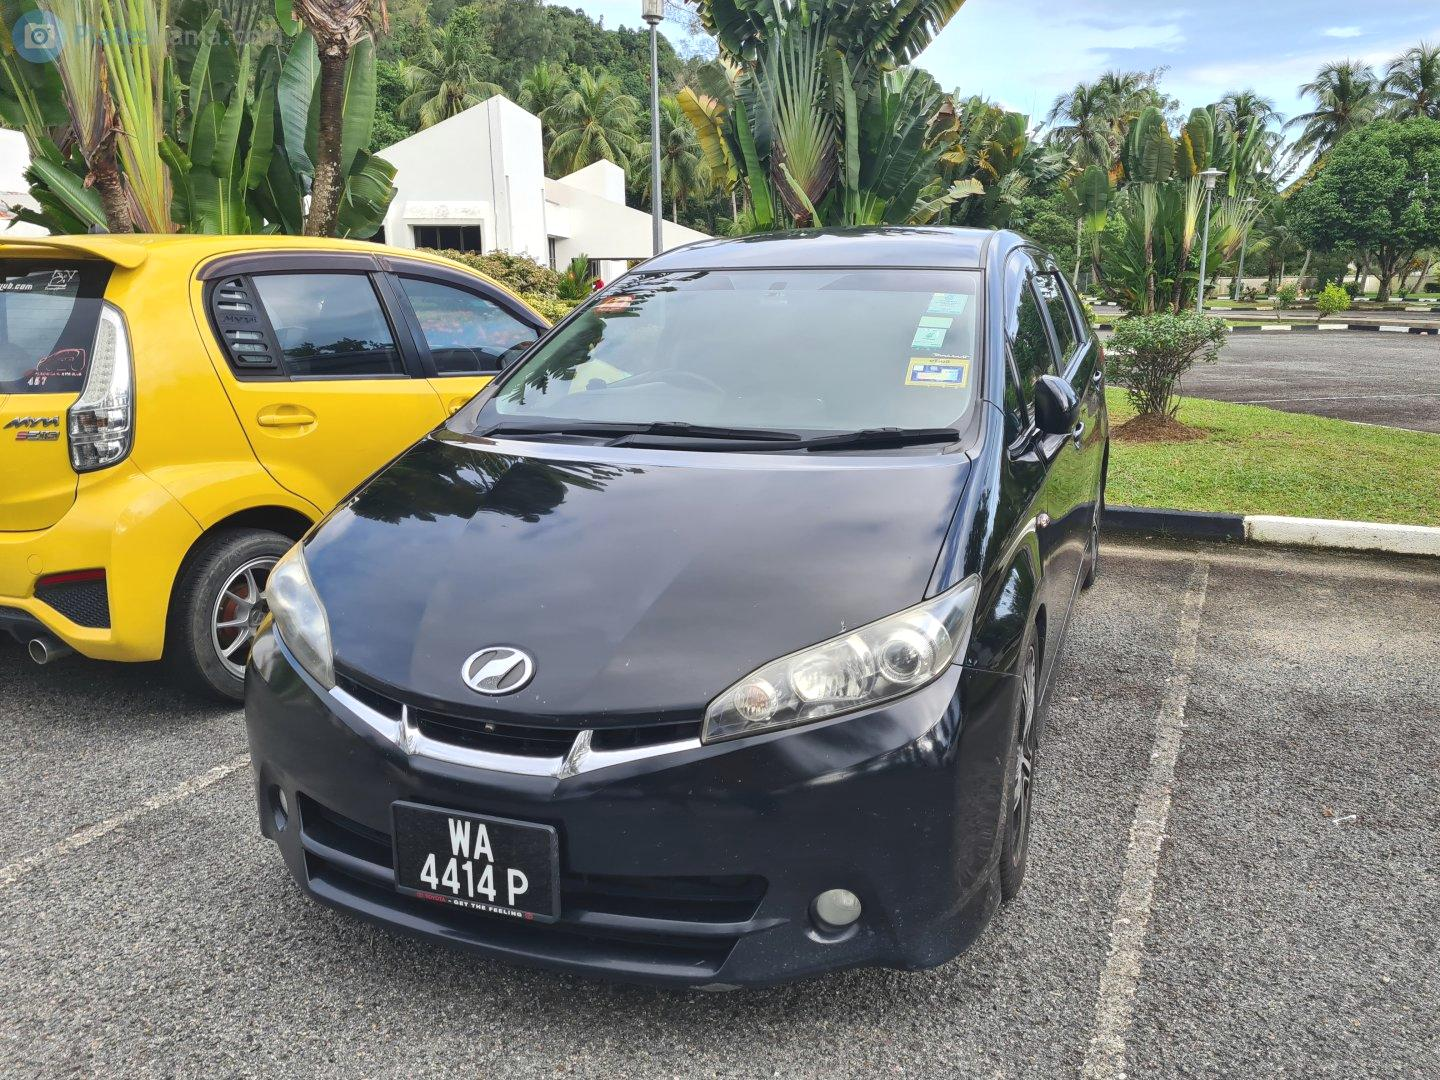License Plate: (398, 808, 555, 919)
